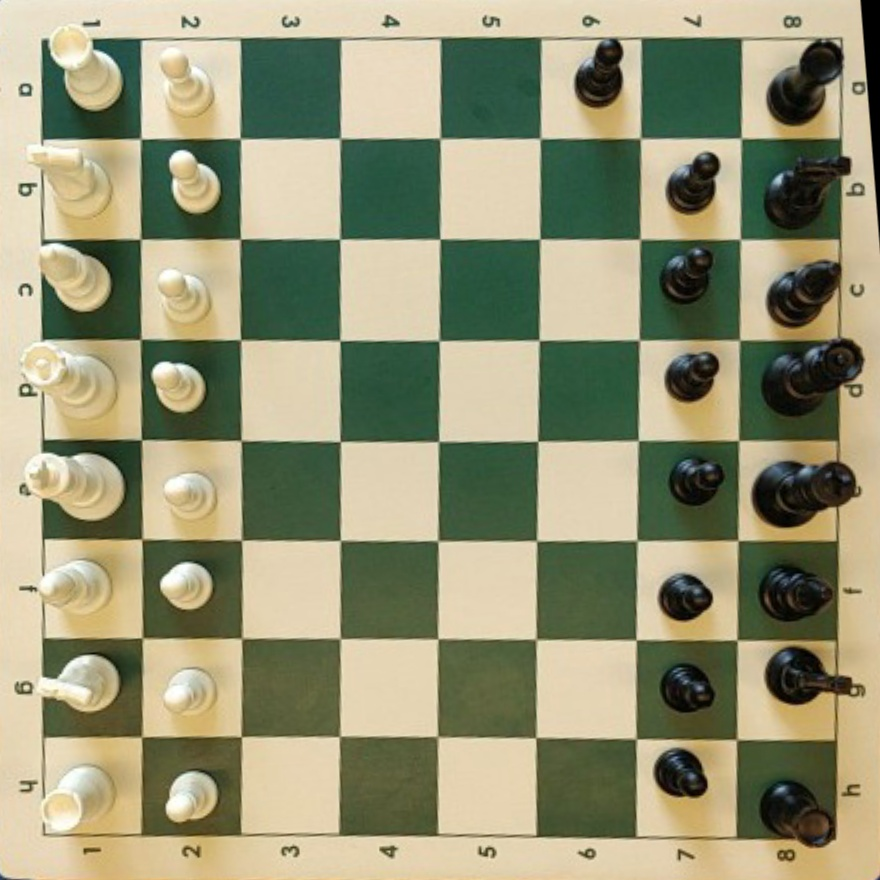black-bishop: (768, 261, 840, 326), (760, 565, 833, 621)
black-king: (753, 460, 858, 527)
black-knight: (766, 648, 865, 704), (762, 160, 818, 220)
black-pawn: (574, 37, 625, 106), (662, 260, 718, 320), (662, 660, 718, 720), (667, 152, 720, 212), (665, 352, 720, 401), (669, 457, 725, 505), (654, 749, 708, 798), (659, 573, 713, 620)
black-queen: (763, 339, 864, 415)
black-rook: (768, 39, 842, 124), (760, 779, 834, 847)
white-bishop: (37, 559, 111, 613), (62, 260, 118, 320)
white-king: (21, 451, 124, 520)
white-knight: (23, 141, 111, 217), (62, 660, 118, 720)
white-pawn: (159, 50, 214, 117), (168, 149, 221, 214), (150, 360, 206, 413), (164, 770, 218, 824), (157, 268, 209, 322), (159, 561, 213, 610), (163, 471, 216, 520), (163, 667, 215, 714)
white-queen: (19, 345, 117, 418)
white-rook: (49, 27, 123, 112), (40, 764, 114, 835)
